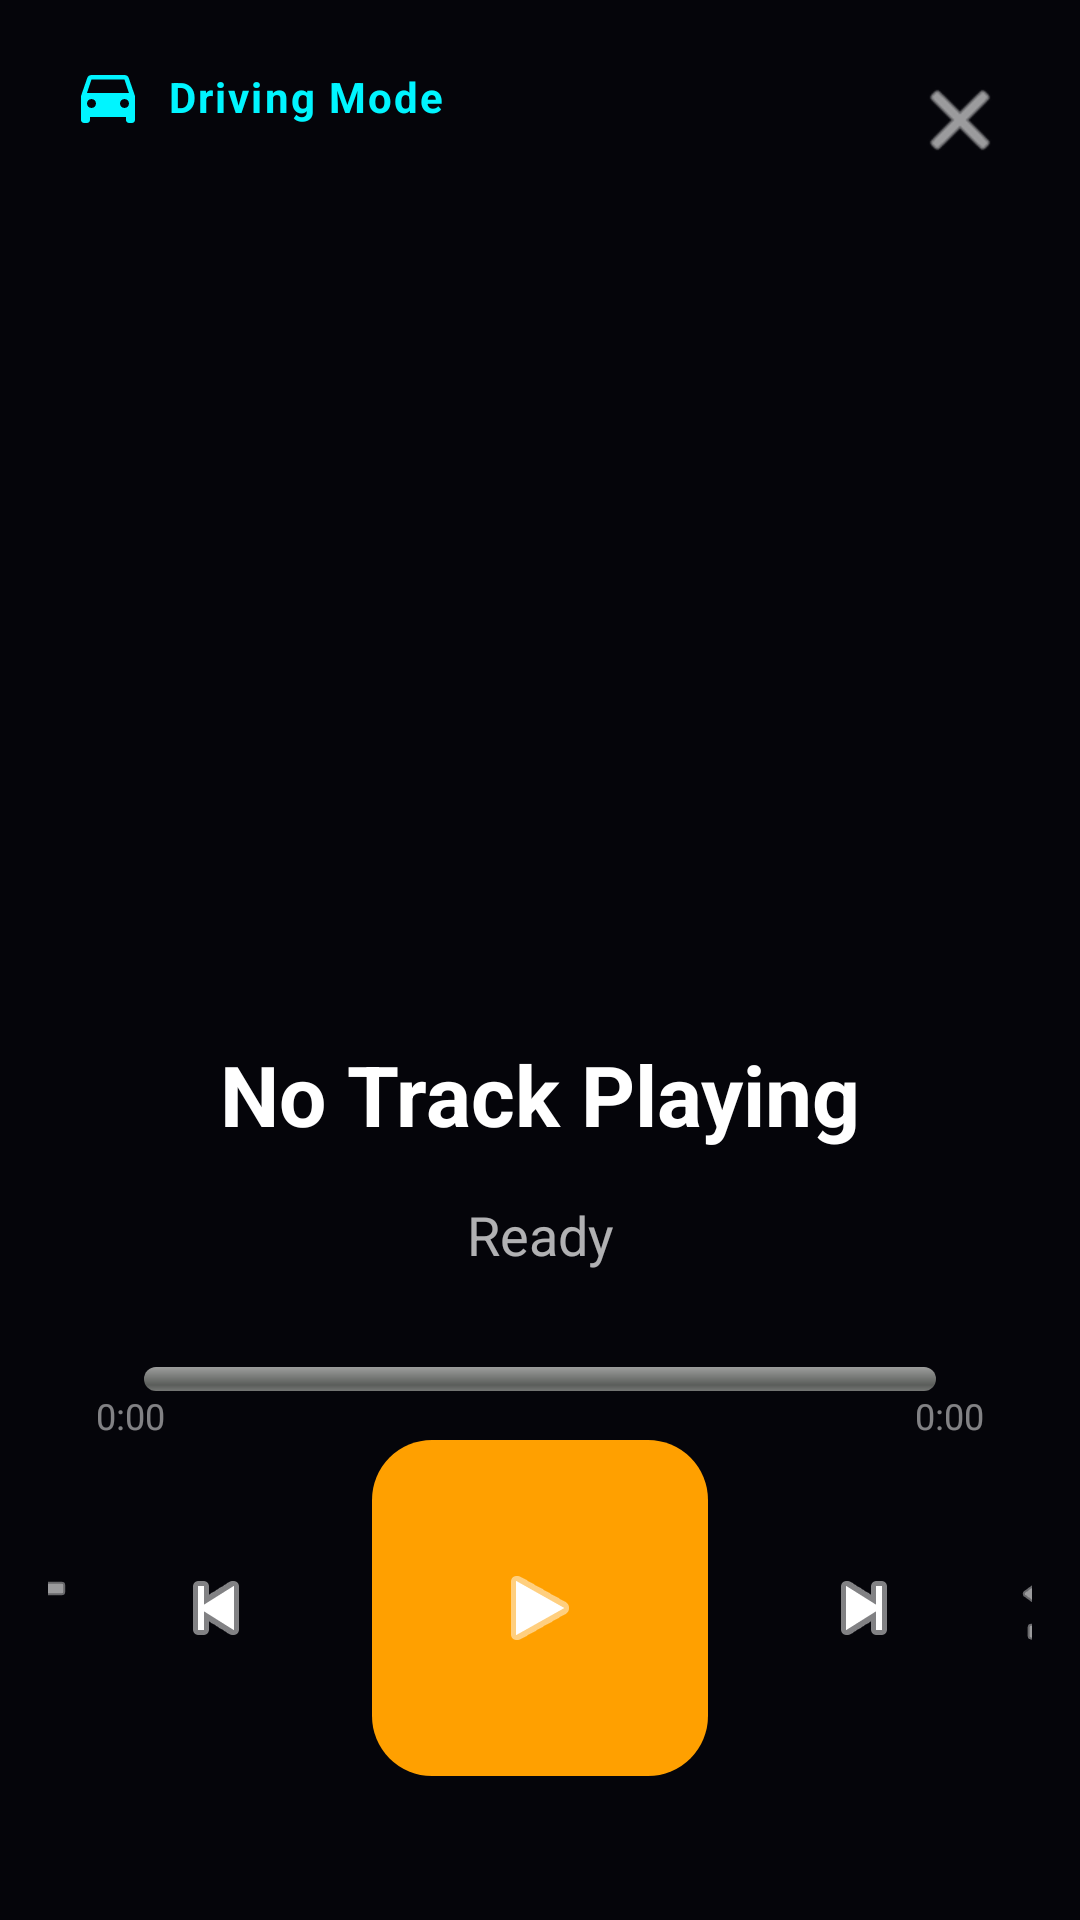

Named icons in this screenshot (1080 × 1920) and their centers, [x,y]:
Close: [960,120]
Drive Mode: [108,99]
Next: [864,1608]
Play/Pause: [540,1608]
Previous: [216,1608]
